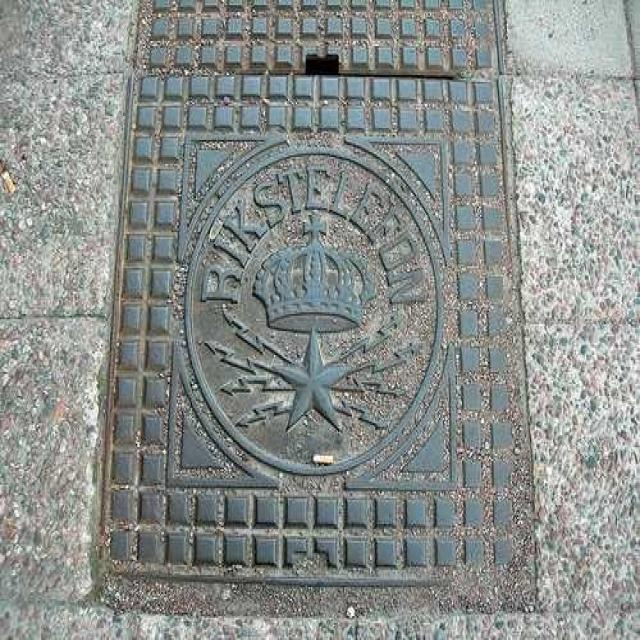manhole: (102, 0, 535, 613)
